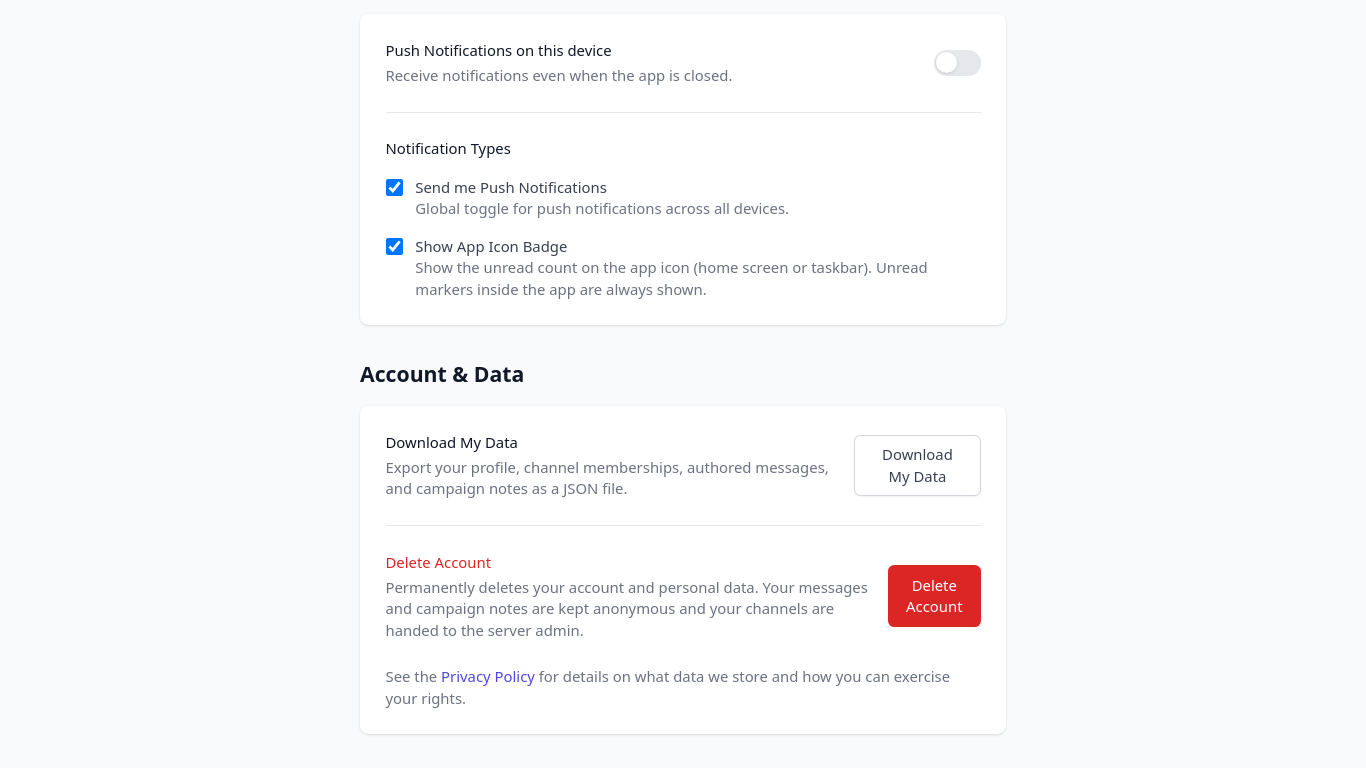
Scenario: ProfileSettings › requires typing DELETE before confirming account deletion
(page scrolled)
Click the button "Delete Account": coordinates (934, 596) [888,565,980,627]
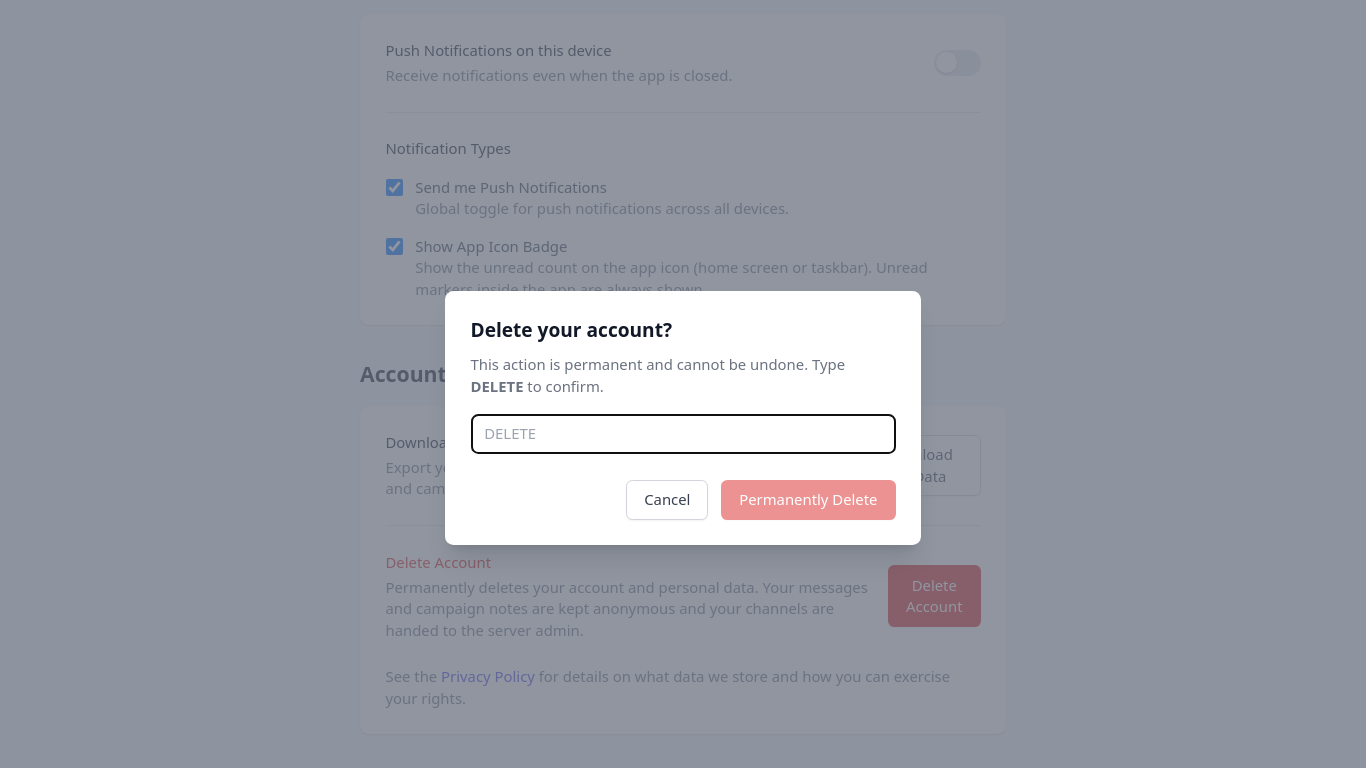
Expected: the button "Permanently Delete" is disabled, [721,480,896,520]
In the field named "Type DELETE to confirm": coordinates (683, 434) [470,414,896,454], type "DELET"
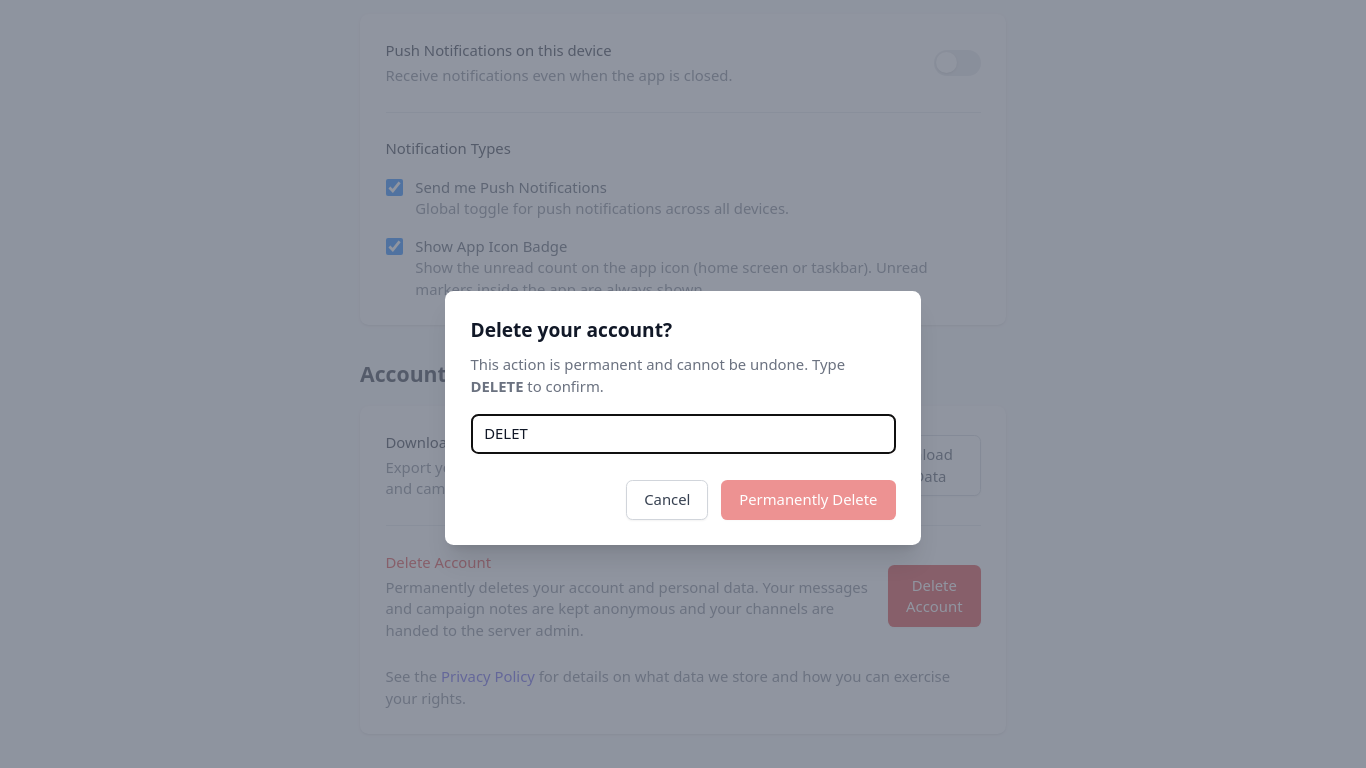
Expected: the button "Permanently Delete" is disabled, [721,480,896,520]
Replace the text in the field named "Type DELETE to confirm" with "DELETE": coordinates (683, 434) [470,414,896,454]
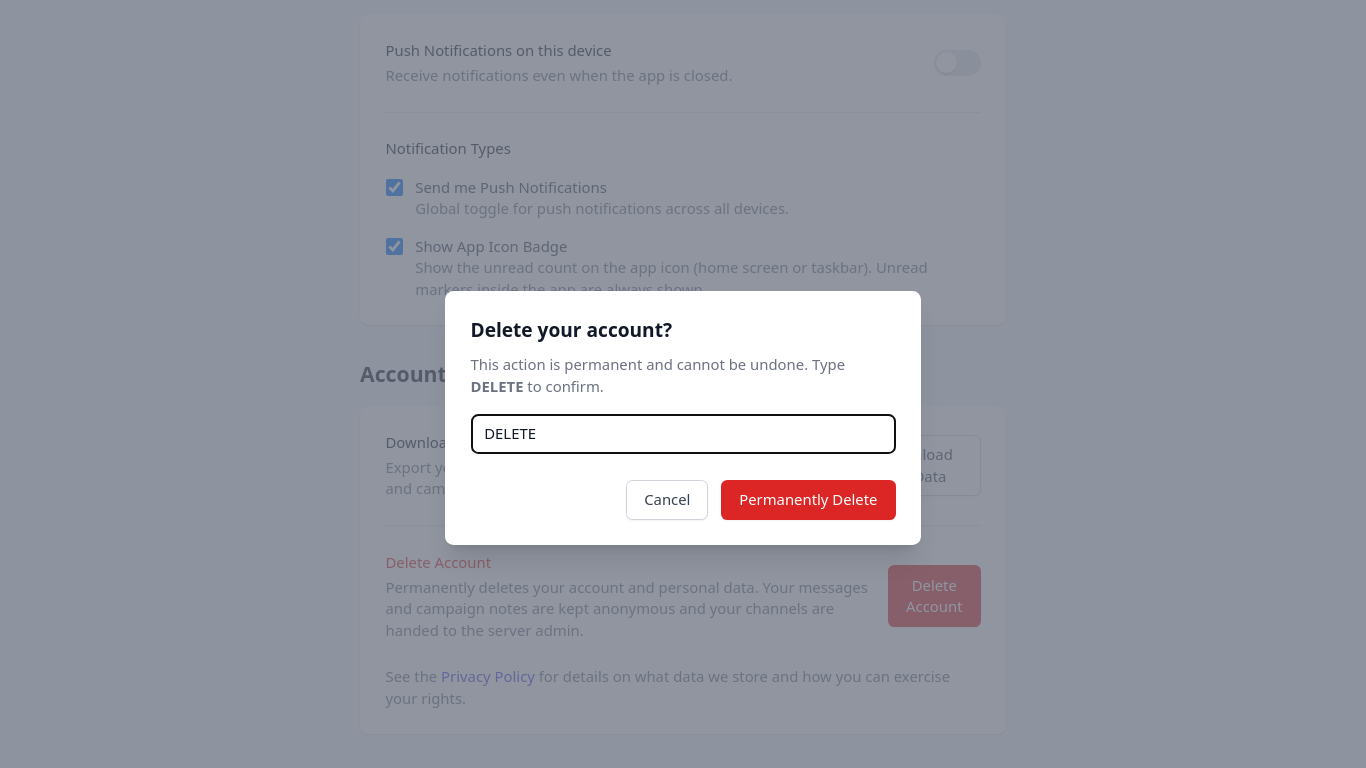
Expected: the button "Permanently Delete" is enabled, [721,480,896,520]
